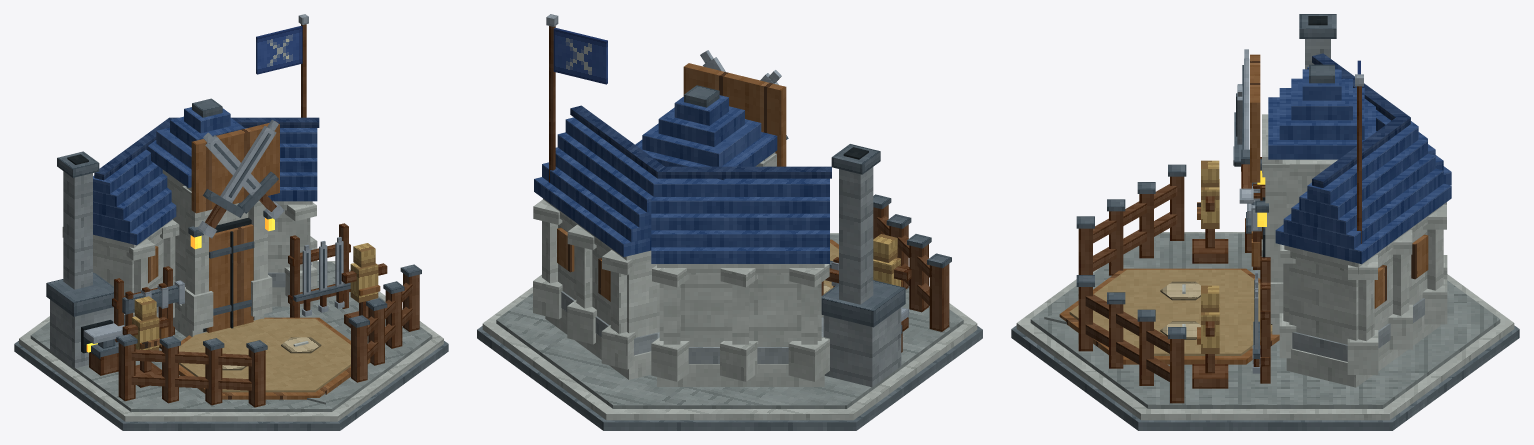
Rendered from warrior_hall_hex_v1.glb.
3 views of the same model, side by side, from view 1: azimuth 30°, elevation 25°; view 2: azimuth 150°, elevation 25°; view 3: azimuth 270°, elevation 25° (orthographic). The views are drawn at different scales.
Parts seen in each view (by area): view 1: Warrior_Hall_Hex_V1_Courtyard, Warrior_Hall_Hex_V1_Hall, Warrior_Hall_Hex_V1_Foundation, Warrior_Hall_Hex_V1_Roofs, Warrior_Hall_Hex_V1_Details, Warrior_Hall_Hex_V1_Heraldry, Warrior_Hall_Hex_V1_Armory, Warrior_Hall_Hex_V1_Training; view 2: Warrior_Hall_Hex_V1_Roofs, Warrior_Hall_Hex_V1_Hall, Warrior_Hall_Hex_V1_Foundation, Warrior_Hall_Hex_V1_Details, Warrior_Hall_Hex_V1_Heraldry, Warrior_Hall_Hex_V1_Courtyard, Warrior_Hall_Hex_V1_Training; view 3: Warrior_Hall_Hex_V1_Foundation, Warrior_Hall_Hex_V1_Hall, Warrior_Hall_Hex_V1_Roofs, Warrior_Hall_Hex_V1_Courtyard, Warrior_Hall_Hex_V1_Training, Warrior_Hall_Hex_V1_Heraldry, Warrior_Hall_Hex_V1_Armory, Warrior_Hall_Hex_V1_Details.
Part boxes in pixels (left/top/right/bottom): Warrior_Hall_Hex_V1_Courtyard: left=116, top=264, right=421, bottom=407; Warrior_Hall_Hex_V1_Hall: left=62, top=169, right=317, bottom=337; Warrior_Hall_Hex_V1_Foundation: left=14, top=261, right=448, bottom=430; Warrior_Hall_Hex_V1_Roofs: left=93, top=98, right=319, bottom=245; Warrior_Hall_Hex_V1_Details: left=46, top=151, right=274, bottom=375; Warrior_Hall_Hex_V1_Heraldry: left=191, top=14, right=308, bottom=238; Warrior_Hall_Hex_V1_Armory: left=112, top=223, right=350, bottom=349; Warrior_Hall_Hex_V1_Training: left=122, top=243, right=387, bottom=387; Warrior_Hall_Hex_V1_Roofs: left=534, top=85, right=831, bottom=263; Warrior_Hall_Hex_V1_Hall: left=533, top=152, right=829, bottom=386; Warrior_Hall_Hex_V1_Foundation: left=477, top=233, right=982, bottom=430; Warrior_Hall_Hex_V1_Details: left=821, top=144, right=908, bottom=387; Warrior_Hall_Hex_V1_Heraldry: left=546, top=14, right=788, bottom=182; Warrior_Hall_Hex_V1_Courtyard: left=823, top=194, right=951, bottom=331; Warrior_Hall_Hex_V1_Training: left=823, top=234, right=911, bottom=331; Warrior_Hall_Hex_V1_Foundation: left=1011, top=232, right=1519, bottom=430; Warrior_Hall_Hex_V1_Hall: left=1261, top=114, right=1447, bottom=387; Warrior_Hall_Hex_V1_Roofs: left=1268, top=53, right=1451, bottom=264; Warrior_Hall_Hex_V1_Courtyard: left=1044, top=164, right=1279, bottom=403; Warrior_Hall_Hex_V1_Training: left=1160, top=160, right=1228, bottom=388; Warrior_Hall_Hex_V1_Heraldry: left=1233, top=49, right=1363, bottom=243; Warrior_Hall_Hex_V1_Armory: left=1251, top=157, right=1270, bottom=383; Warrior_Hall_Hex_V1_Details: left=1245, top=14, right=1336, bottom=252.
Size of the model in its own units: 1.59 by 1.3 by 1.84.
Materials: 1 (1 with a texture image).
